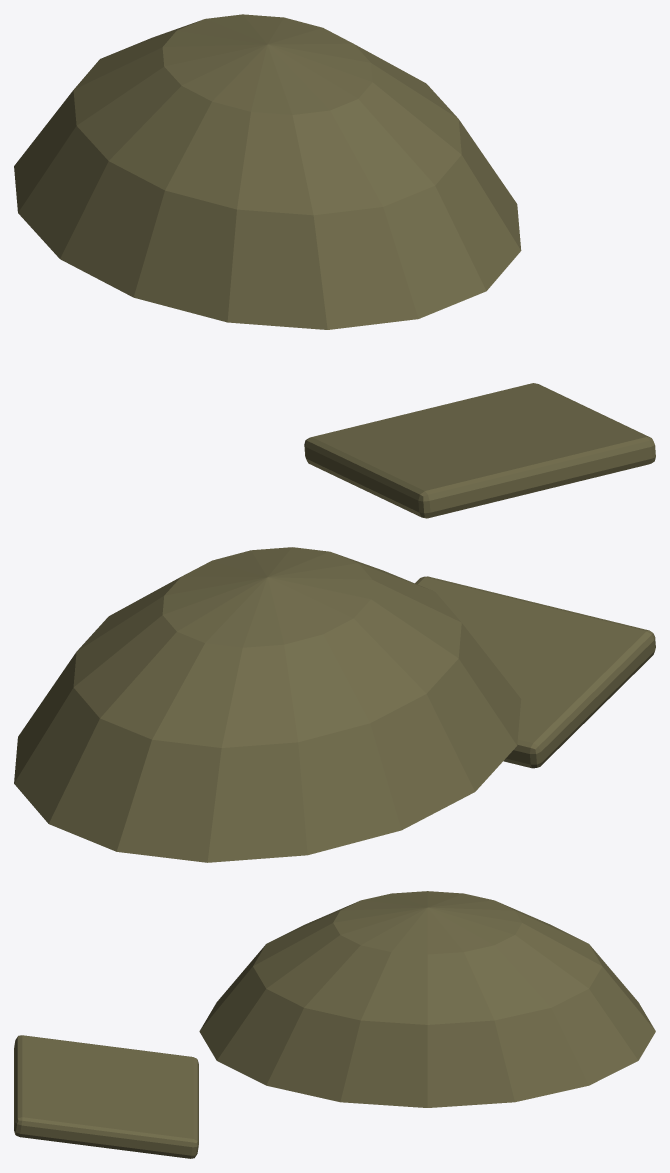
Rendered from hat_cap.glb.
3 renders of one model, top to bottom at view 1: azimuth 30°, elevation 25°; view 2: azimuth 150°, elevation 25°; view 3: azimuth 270°, elevation 25°, orthographic. The views are drawn at different scales.
Visible parts, largest first — view 1: hat_cap; view 2: hat_cap; view 3: hat_cap.
Boxes of the visible parts, x1,y1,x2,y2 form: hat_cap: [14, 14, 655, 518]; hat_cap: [14, 547, 655, 862]; hat_cap: [14, 891, 655, 1158].
Bounding box in the file's own units: 0.2311 × 0.148 × 0.4094.
